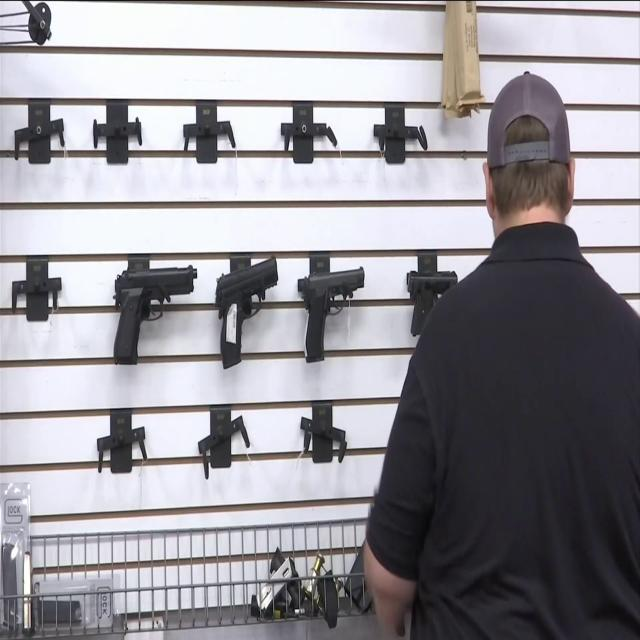HandGun: (114, 266, 199, 365), (216, 256, 280, 369), (299, 268, 366, 364), (408, 266, 459, 335)
